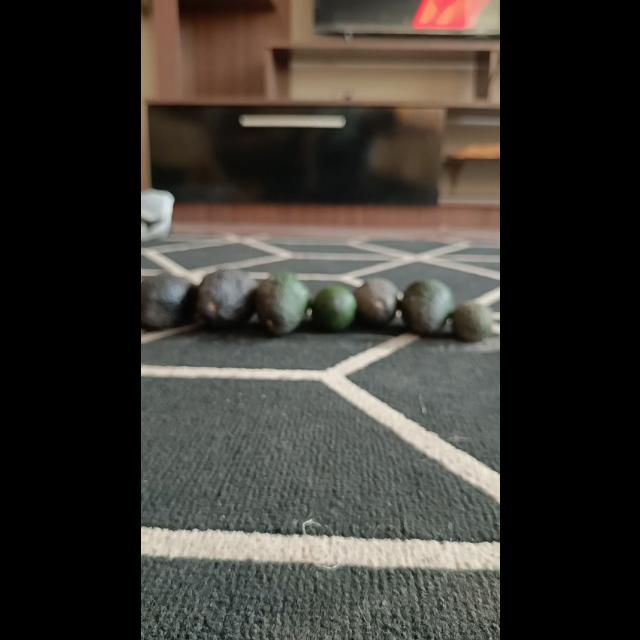Primera: (195, 268, 258, 328), (254, 272, 308, 334), (140, 273, 192, 329)
Segunda: (399, 278, 453, 334), (354, 276, 401, 328), (309, 284, 356, 332)
Tercera: (449, 300, 493, 342)
